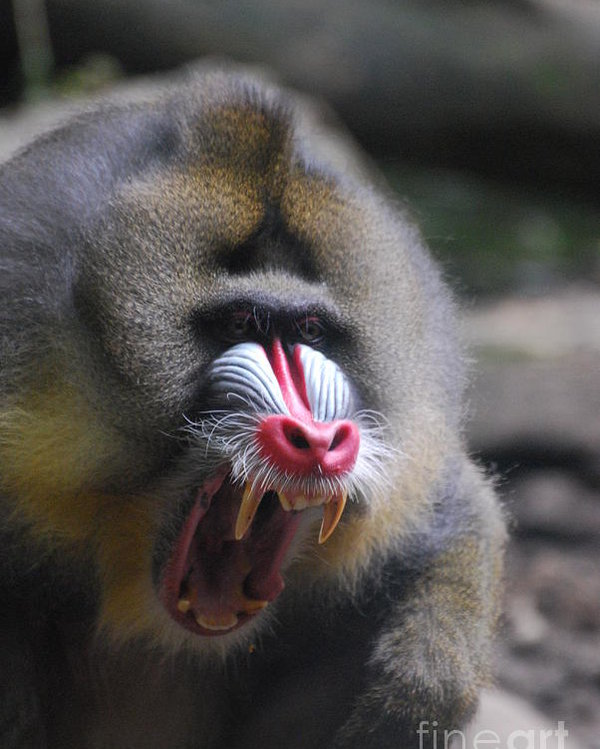Mandrill: (8, 74, 459, 688)
